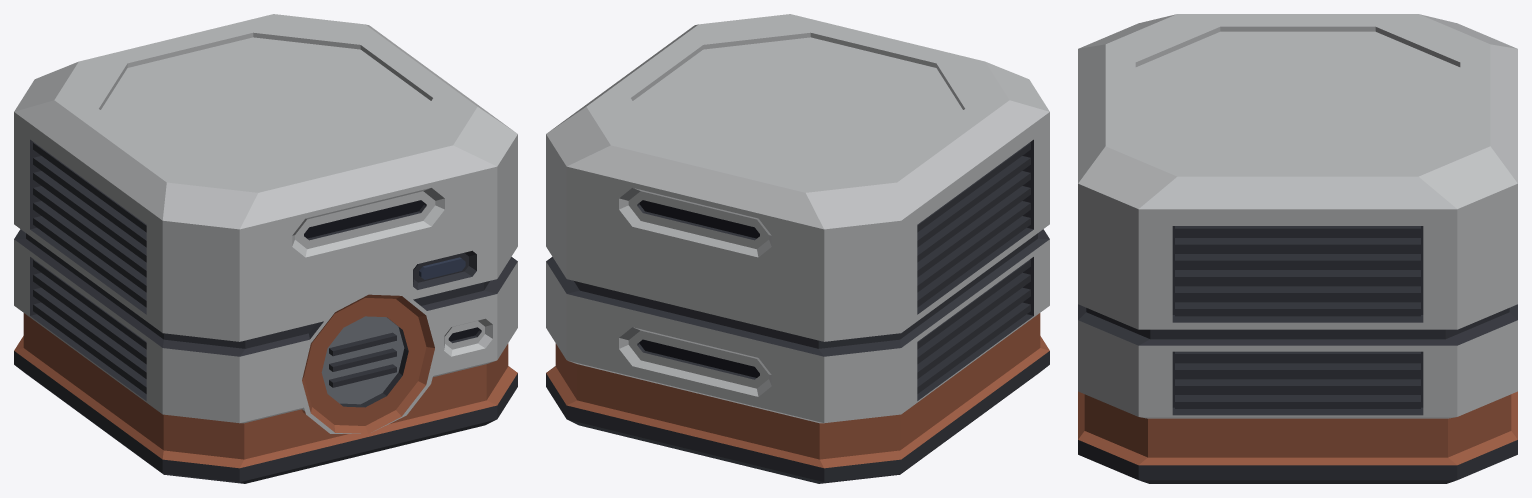
File: reactor-block-13fe72.glb
The picture shows the model from 3 angles, left to right: view 1: azimuth 30°, elevation 25°; view 2: azimuth 150°, elevation 25°; view 3: azimuth 270°, elevation 25°; orthographic projection. The views are drawn at different scales.
Visible parts, largest first — view 1: reactor-hull; view 2: reactor-hull; view 3: reactor-hull.
Part boxes in pixels (box(x1,y1,x2,y2)): reactor-hull: box(14, 14, 517, 483); reactor-hull: box(546, 14, 1049, 483); reactor-hull: box(1078, 14, 1517, 483).
Bounding box in the file's own units: 8 × 6 × 8.
